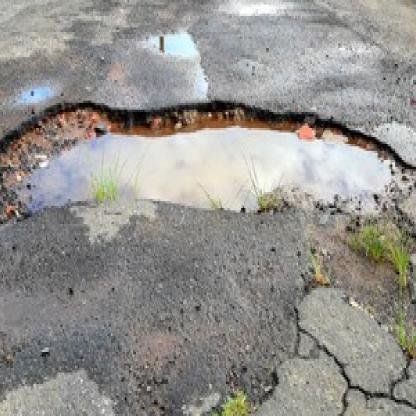pothole: (0, 96, 416, 231)
